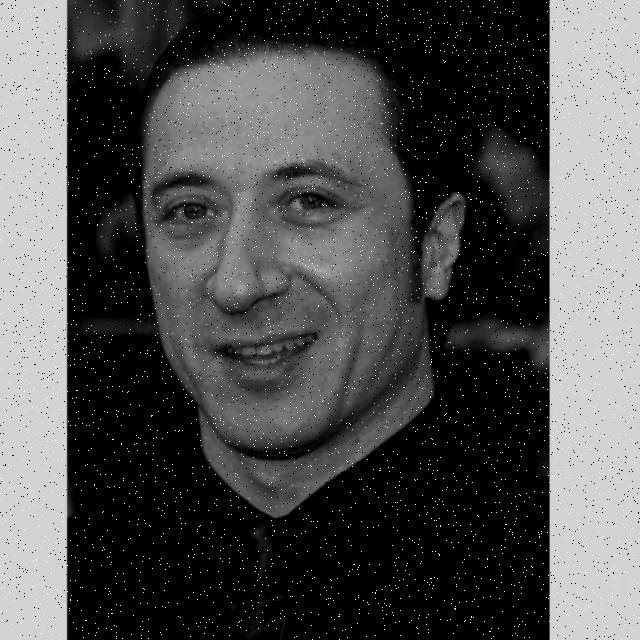real: (140, 80, 412, 456)
